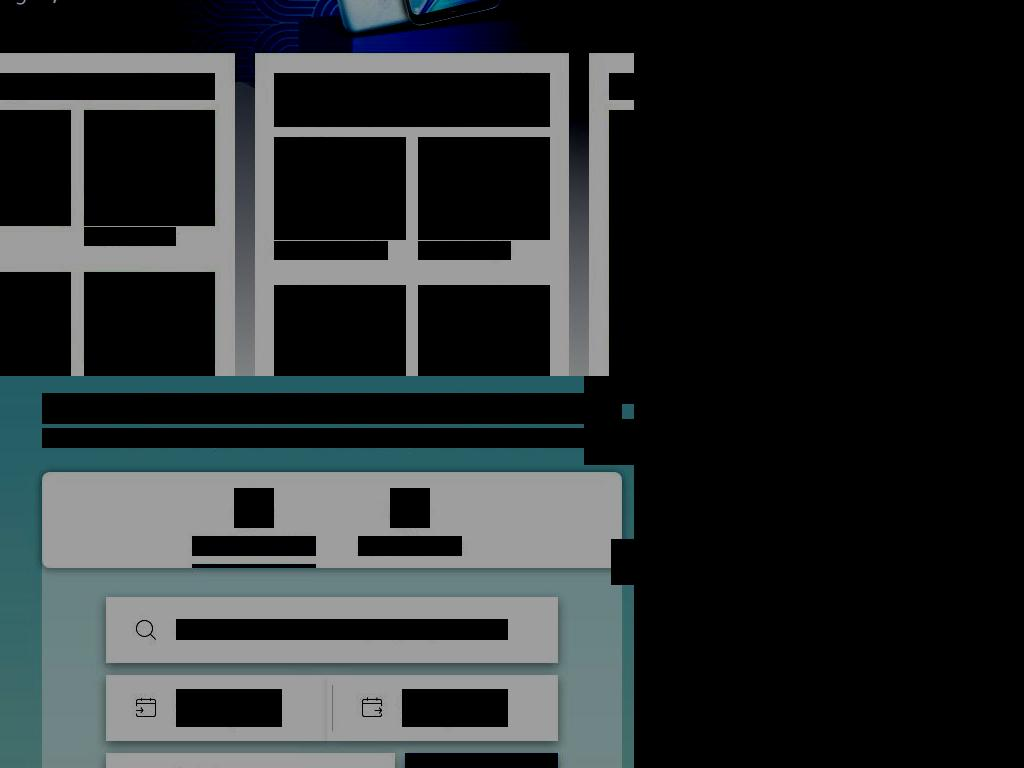button: (634, 0, 1024, 200), (634, 215, 803, 376), (84, 110, 215, 226), (84, 272, 215, 376), (274, 137, 406, 240), (418, 137, 550, 240), (274, 285, 406, 376), (418, 285, 550, 376), (0, 110, 71, 226), (0, 272, 71, 376), (584, 419, 634, 465), (405, 753, 558, 768), (584, 376, 634, 404)
field: (634, 613, 896, 667), (176, 619, 508, 640)
heading: (42, 393, 622, 424), (274, 73, 550, 127), (42, 428, 622, 448), (634, 309, 779, 376), (634, 533, 896, 561), (0, 73, 215, 100), (192, 536, 316, 556), (358, 536, 462, 556)
image: (634, 376, 1024, 768), (634, 0, 1024, 279), (634, 215, 803, 376), (84, 110, 215, 226), (84, 272, 215, 376), (274, 137, 405, 240), (418, 137, 549, 240), (274, 285, 405, 376), (418, 285, 549, 376), (0, 110, 71, 226), (0, 272, 71, 376), (234, 488, 274, 528), (390, 488, 430, 528), (192, 564, 316, 568)
link: (935, 146, 1024, 194)
text: (634, 561, 896, 589), (808, 215, 1024, 234), (176, 689, 282, 710), (402, 689, 508, 710), (274, 241, 388, 260), (176, 709, 282, 727), (402, 709, 508, 727), (418, 241, 511, 260), (84, 227, 176, 246), (597, 434, 634, 450), (596, 376, 634, 390)
